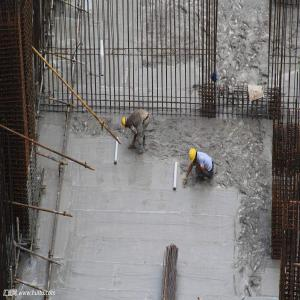yellow: (188, 147, 199, 166), (122, 114, 130, 132)
